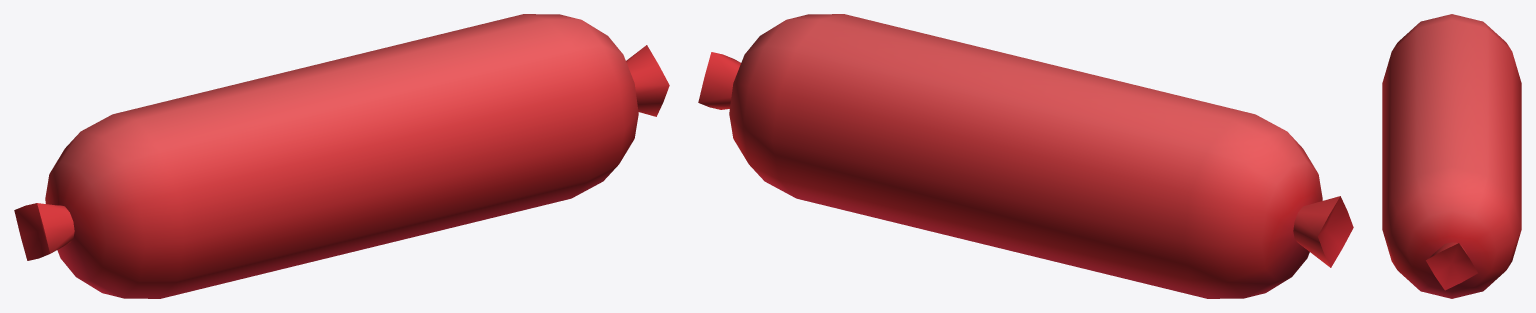
The model's file is food_ingredient_pepperoni.obj.
3 views of the same model, side by side, from view 1: azimuth 30°, elevation 25°; view 2: azimuth 150°, elevation 25°; view 3: azimuth 270°, elevation 25° (orthographic). The views are drawn at different scales.
Visible parts, largest first — view 1: food_ingredient_pepperoni_Cylinder.352; view 2: food_ingredient_pepperoni_Cylinder.352; view 3: food_ingredient_pepperoni_Cylinder.352.
Boxes of the visible parts, x1,y1,x2,y2 form: food_ingredient_pepperoni_Cylinder.352: (14, 14, 669, 298); food_ingredient_pepperoni_Cylinder.352: (698, 14, 1353, 298); food_ingredient_pepperoni_Cylinder.352: (1382, 14, 1521, 298).
Bounding box in the file's own units: 1.5 × 0.4 × 0.4.
1 material, 1 textured.
